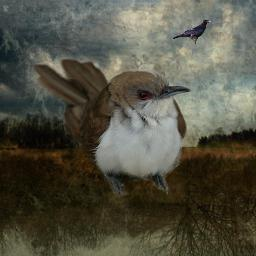Crow: (172, 19, 212, 48)
Cuckoo: (32, 57, 193, 201)
